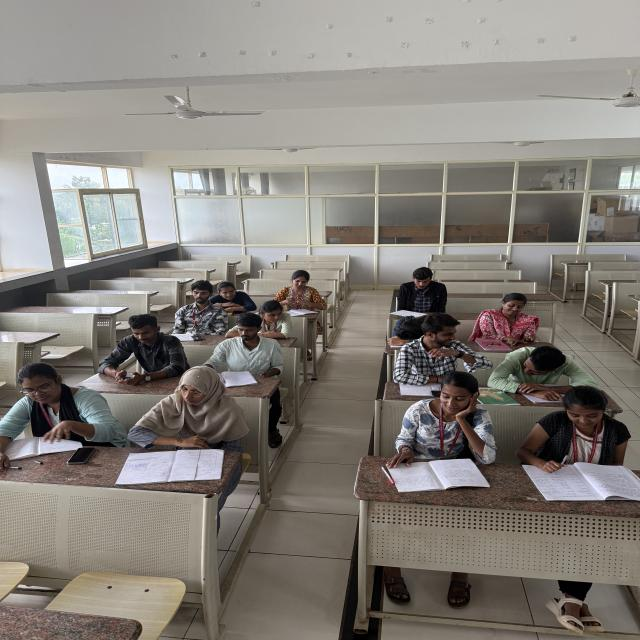Reading: (385, 369, 491, 476), (0, 357, 114, 452), (135, 363, 249, 456), (198, 310, 282, 383), (172, 280, 217, 343), (394, 266, 446, 317)
Sleeping: (486, 344, 604, 400), (382, 312, 438, 348), (210, 280, 253, 314)
Using Phone: (98, 309, 184, 384), (472, 290, 540, 350)
Writing: (514, 384, 630, 488), (271, 269, 327, 315)
